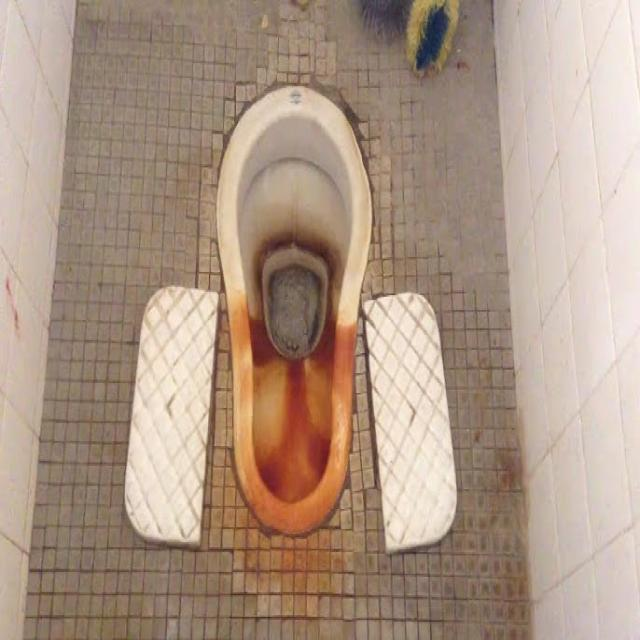dirty_floor: (25, 0, 528, 638), (213, 82, 374, 539), (247, 227, 343, 507)
